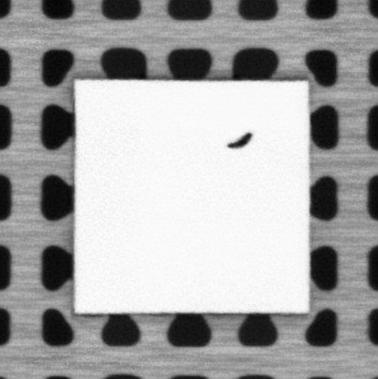DIE_INK: (226, 132, 253, 151)
